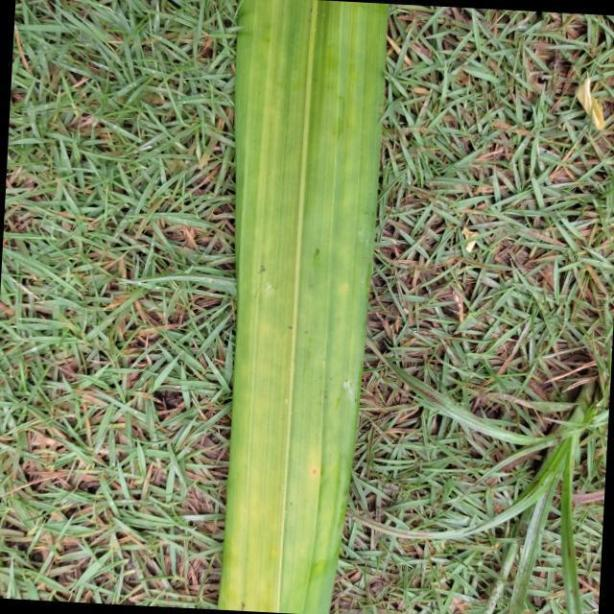nitrogen: (214, 0, 385, 614)
